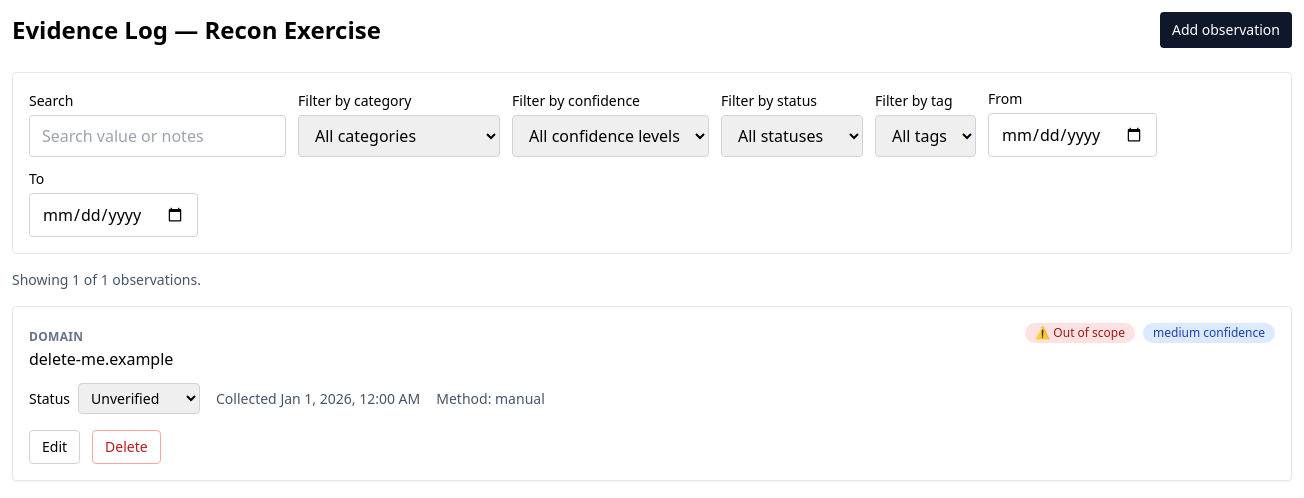
EvidenceScreen — FR-12 edit and delete › requires confirmation before deleting an observation
The width and height of the screenshot is (1304, 498).
Click the button "Delete": (126, 447) [92,430,161,464]
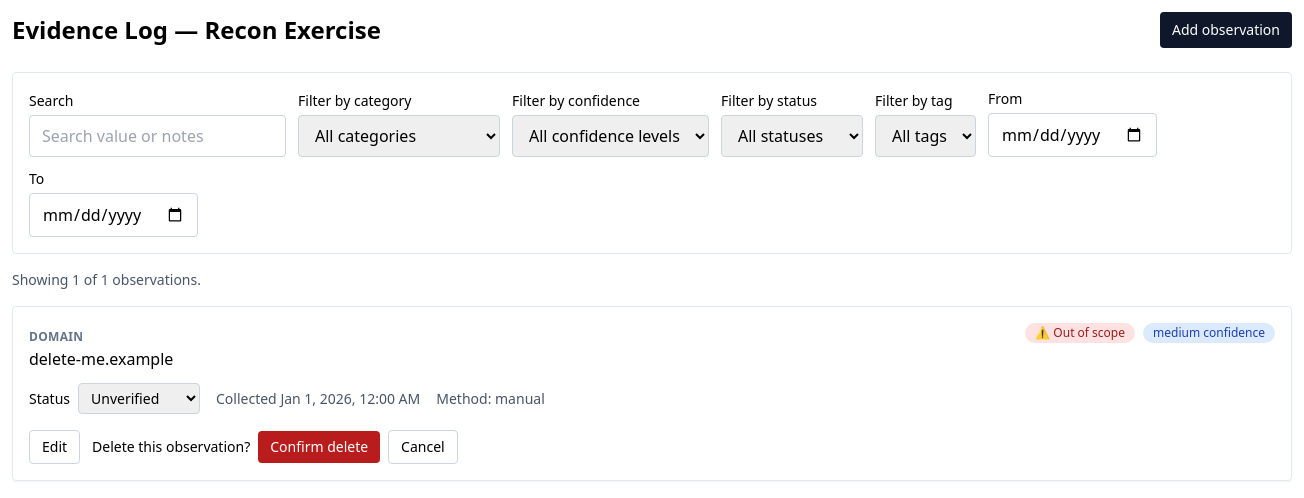
Expected: the text "delete-me.example" is shown, [29,347,173,371]
Now the text "Delete this observation? Confirm delete Cancel" is shown, box [92,430,458,464]
Click the button "Confirm delete": (319, 447) [258,431,380,463]
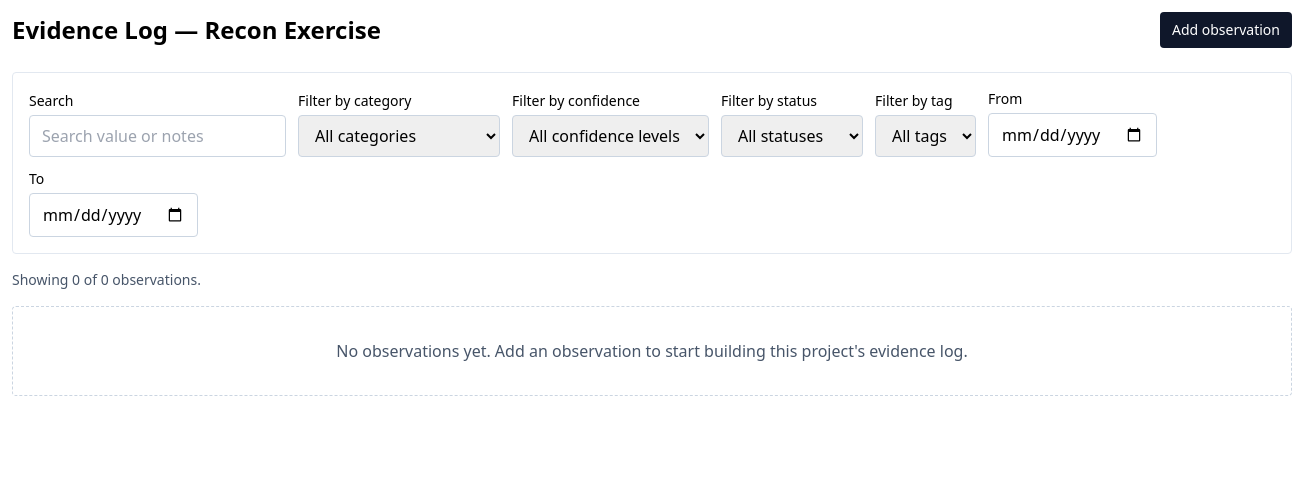
Now the text "No observations yet" is shown, box [336,340,968,362]
